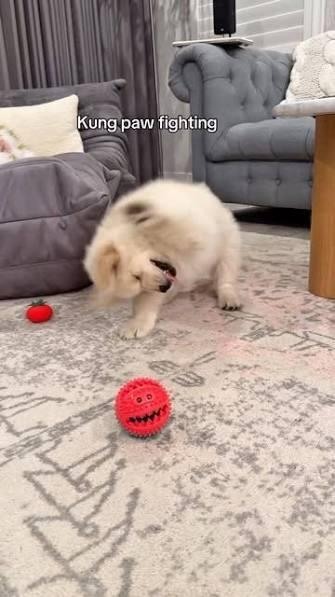puppy-dog: (83, 177, 245, 339)
